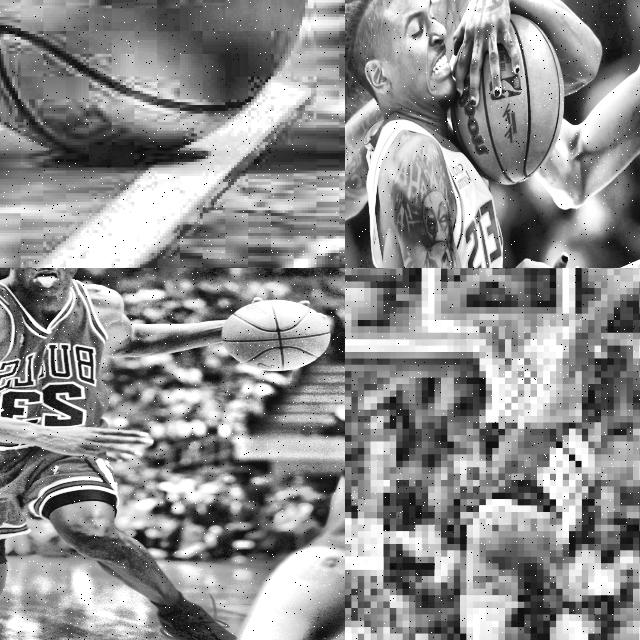Basketball: (451, 13, 564, 184), (223, 300, 331, 371)
